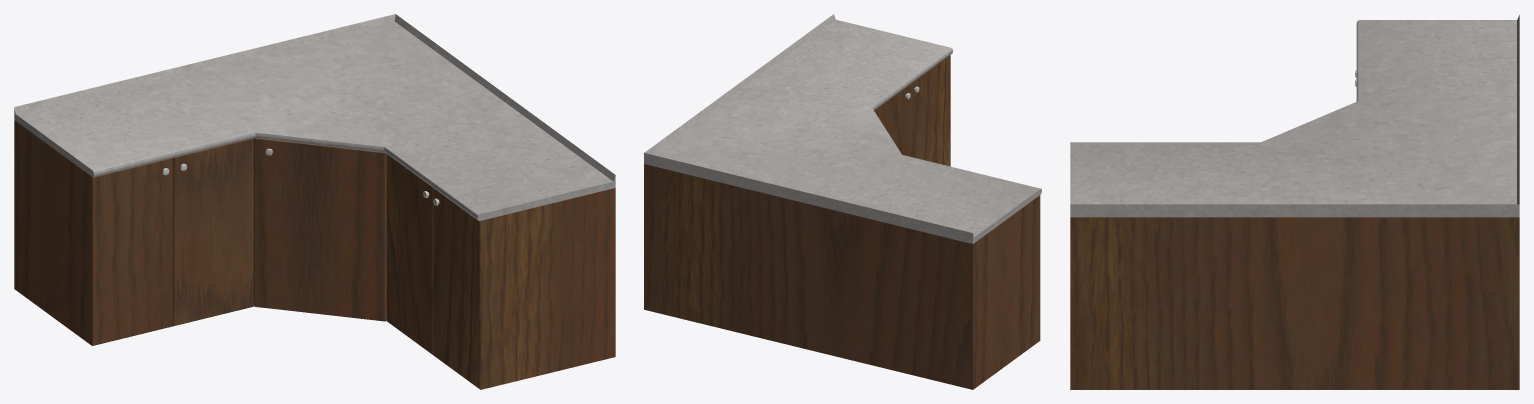
File: virt_skapis.glb
3 renders of one model, left to right at view 1: azimuth 30°, elevation 25°; view 2: azimuth 150°, elevation 25°; view 3: azimuth 270°, elevation 25°, orthographic. The views are drawn at different scales.
Visible parts, largest first — view 1: KitchenCabinetRounded; view 2: KitchenCabinetRounded; view 3: KitchenCabinetRounded.
Boxes of the visible parts, left/top/right/bottom form: KitchenCabinetRounded: left=14, top=14, right=615, bottom=389; KitchenCabinetRounded: left=644, top=14, right=1041, bottom=389; KitchenCabinetRounded: left=1070, top=15, right=1519, bottom=389.
Bounding box in the file's own units: 1.89 × 0.8613 × 1.89.
Materials: 1 (1 with a texture image).
